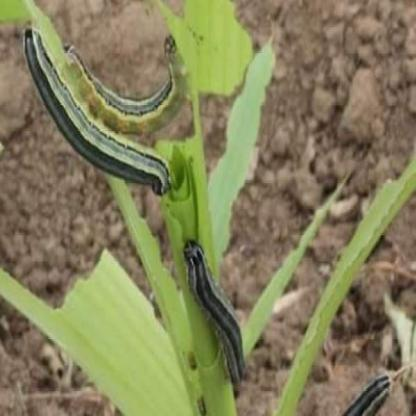armyworm: (22, 26, 174, 198), (66, 29, 194, 135), (182, 233, 254, 394), (340, 367, 406, 416)
